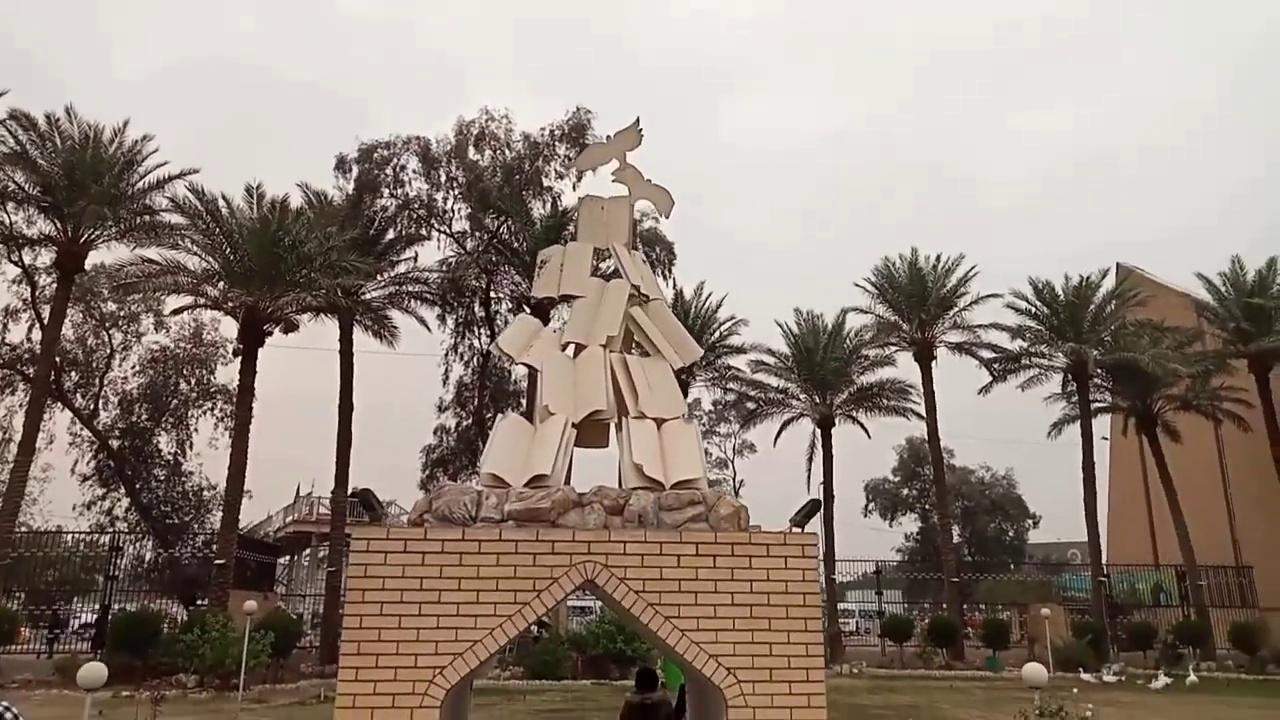person: (618, 666, 674, 719), (89, 603, 110, 661), (43, 607, 63, 659)
tree: (106, 177, 369, 604), (332, 102, 600, 494), (0, 97, 202, 589), (277, 180, 435, 669), (977, 265, 1163, 664), (729, 305, 924, 664), (847, 244, 1005, 664), (860, 432, 1041, 655), (1172, 353, 1257, 613), (663, 278, 760, 498), (1191, 251, 1279, 482), (251, 604, 305, 684), (1225, 616, 1269, 674), (1167, 615, 1211, 663), (878, 611, 915, 668), (924, 611, 961, 664), (976, 615, 1011, 671), (1124, 618, 1158, 659)
